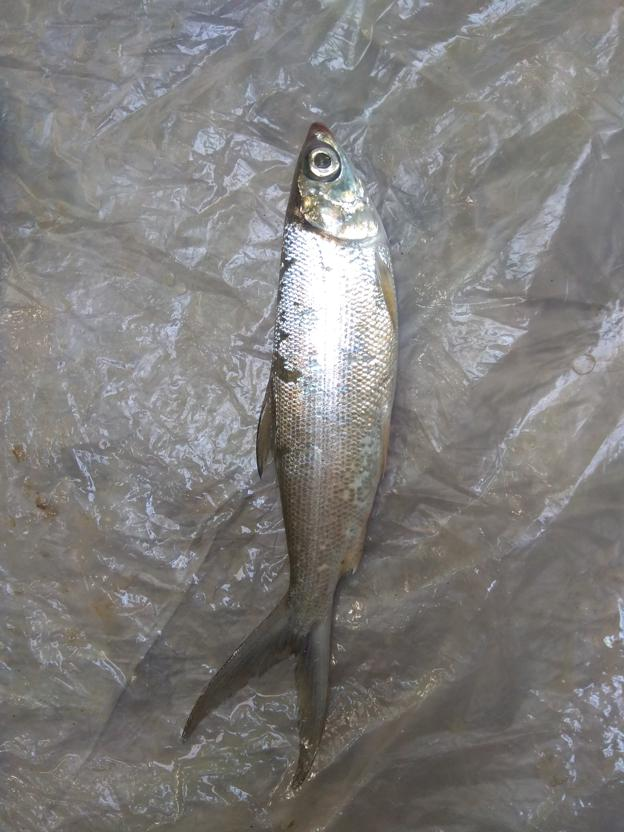Fish head: (289, 120, 382, 244)
Fish tail: (182, 588, 334, 793)
